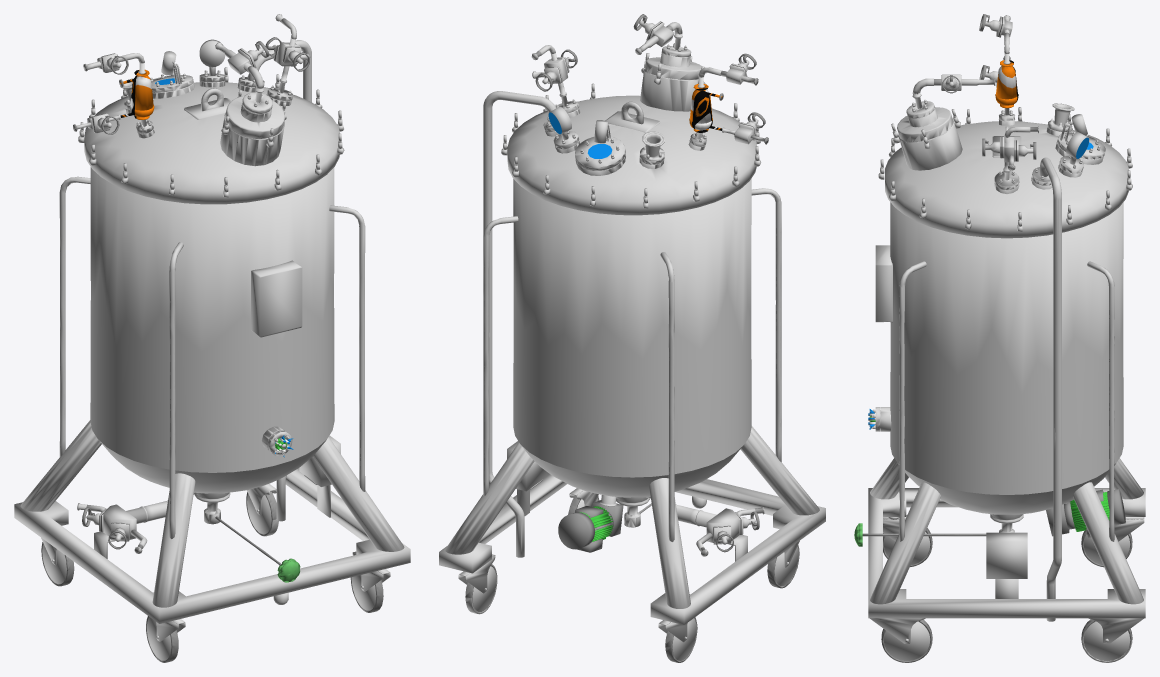
File: Tanque 500L B.fbx
The picture shows the model from 3 angles, left to right: view 1: azimuth 30°, elevation 25°; view 2: azimuth 150°, elevation 25°; view 3: azimuth 270°, elevation 25°; orthographic projection. The views are drawn at different scales.
Parts seen in each view (by area): view 1: Tanque Tanque [3299], Valvula de Descarga V2 V3 [368594], Filtro Filtro [378181], Valvula Spray Ball V4 [400016], Valvula de Suministro de Tanque V5 V6 [387321], Valvula de Fondo Valvula de Fondo [755192], Valvula de Suministro de Filtro Superior V9 [384894]; view 2: Tanque Tanque [3299], Valvula de Descarga V2 V3 [368594], Filtro Filtro [378181], Valvula de Suministro de Tanque V5 V6 [387321], Valvula Spray Ball V4 [400016], Valvula de Suministro de Filtro Superior V9 [384894]; view 3: Tanque Tanque [3299], Valvula de Suministro de Tanque V5 V6 [387321], Filtro Filtro [378181], Valvula Spray Ball V4 [400016], Valvula de Suministro de Filtro Superior V9 [384894], Valvula de Fondo Valvula de Fondo [755192].
Boxes of the visible parts, box(x1,y1,x2,y2) form: Tanque Tanque [3299]: box(14, 39, 410, 662); Valvula de Descarga V2 V3 [368594]: box(78, 503, 147, 553); Filtro Filtro [378181]: box(120, 69, 154, 119); Valvula Spray Ball V4 [400016]: box(215, 43, 263, 92); Valvula de Suministro de Tanque V5 V6 [387321]: box(272, 14, 309, 82); Valvula de Fondo Valvula de Fondo [755192]: box(215, 516, 300, 582); Valvula de Suministro de Filtro Superior V9 [384894]: box(83, 53, 145, 74); Tanque Tanque [3299]: box(439, 37, 825, 662); Valvula de Descarga V2 V3 [368594]: box(695, 507, 764, 556); Filtro Filtro [378181]: box(689, 83, 722, 132); Valvula de Suministro de Tanque V5 V6 [387321]: box(531, 45, 570, 95); Valvula Spray Ball V4 [400016]: box(635, 20, 682, 54); Valvula de Suministro de Filtro Superior V9 [384894]: box(697, 60, 757, 87); Tanque Tanque [3299]: box(868, 97, 1145, 662); Valvula de Suministro de Tanque V5 V6 [387321]: box(985, 126, 1038, 171); Filtro Filtro [378181]: box(995, 60, 1018, 108); Valvula Spray Ball V4 [400016]: box(912, 74, 995, 97); Valvula de Suministro de Filtro Superior V9 [384894]: box(985, 15, 1012, 64); Valvula de Fondo Valvula de Fondo [755192]: box(854, 523, 986, 546).
Size of the model in its own units: 0.9965 by 2.08 by 0.998.
Materials: 8 (1 with a texture image).
